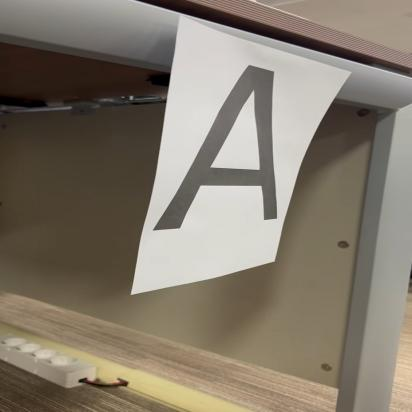seat: (149, 53, 302, 237)
